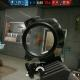Friend_label: (28, 36, 33, 40)
